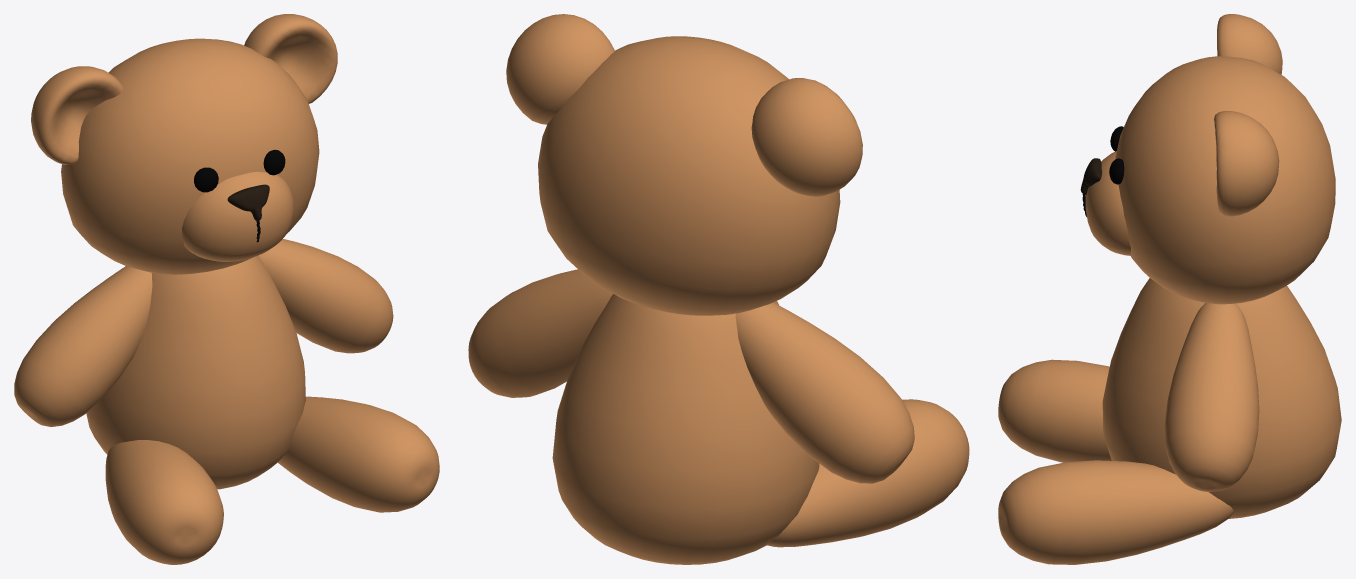
Rendered from cafe.dae.
The picture shows the model from 3 angles, left to right: view 1: azimuth 30°, elevation 25°; view 2: azimuth 150°, elevation 25°; view 3: azimuth 270°, elevation 25°; orthographic projection. The views are drawn at different scales.
Parts seen in each view (by area): view 1: bear.009; view 2: bear.009; view 3: bear.009.
Boxes of the visible parts, left/top/right/bottom form: bear.009: left=14, top=14, right=439, bottom=564; bear.009: left=468, top=14, right=969, bottom=564; bear.009: left=998, top=14, right=1341, bottom=564.
Bounding box in the file's own units: 0.1262 × 0.1 × 0.1416.
